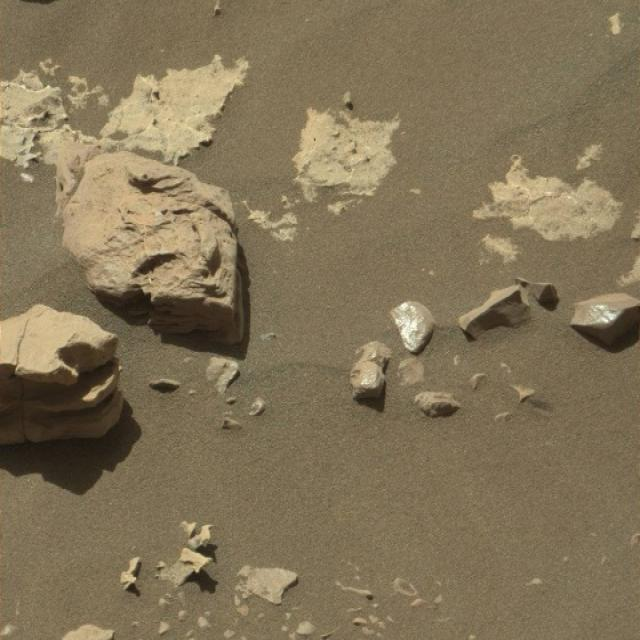mars-rocks: (63, 152, 247, 344), (572, 293, 640, 352), (459, 285, 530, 340), (351, 342, 392, 400)
